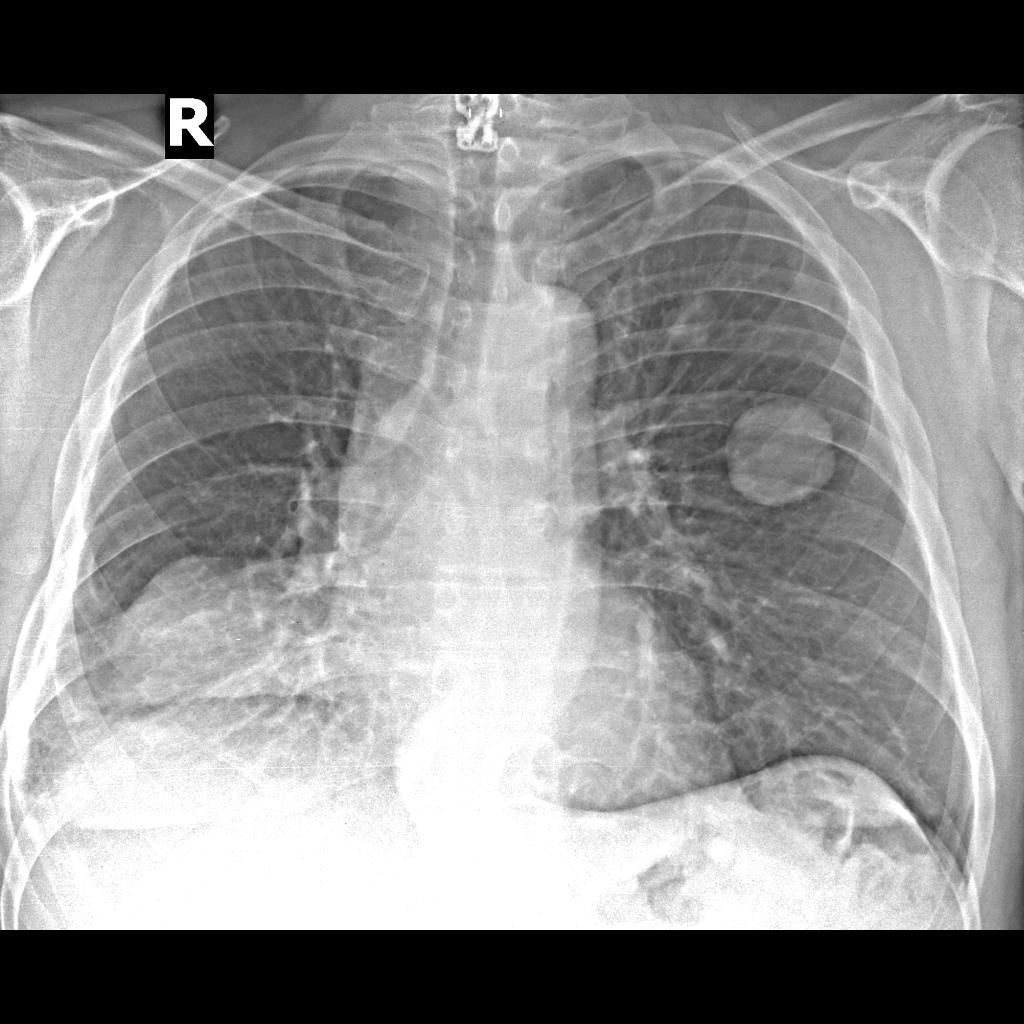Nodule: (715, 390, 850, 518), (658, 288, 724, 353)
